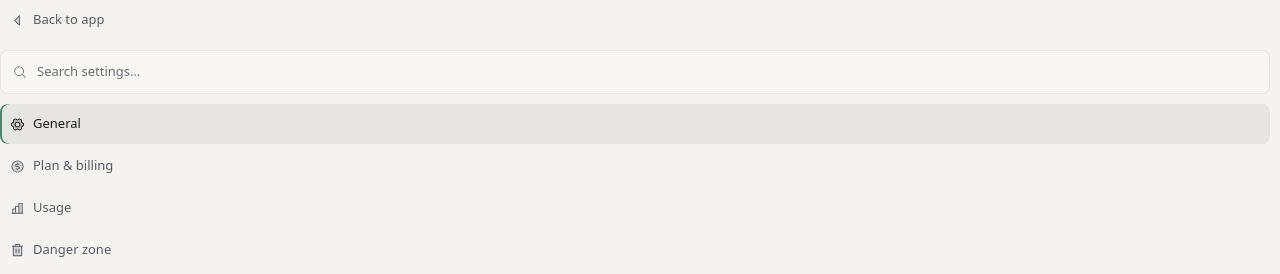
SettingsNav › filters section items by search while keeping Back visible
The image size is (1280, 274).
Type "usag" into the search field labelled "Search settings" at (646, 72), box [35,61,1257,83]
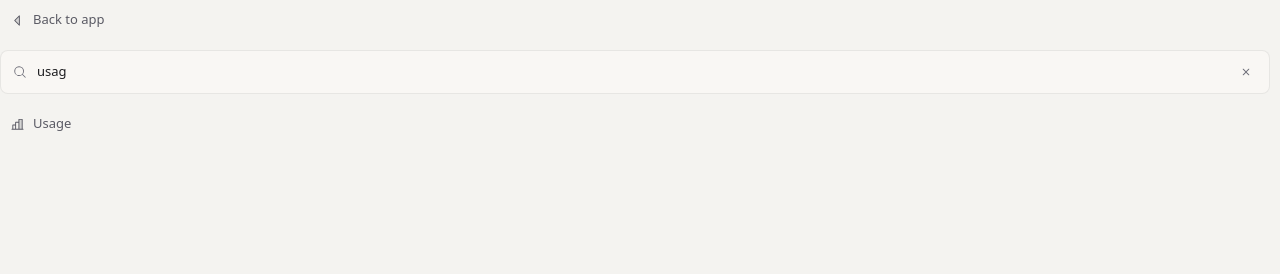
expect the link "Usage" is shown: met, box [10,114,71,132]
expect the link "General" is gone: met
Replace the text in the search field named "Search settings" with "zzz-no-match" at (631, 72), box [35,61,1227,83]
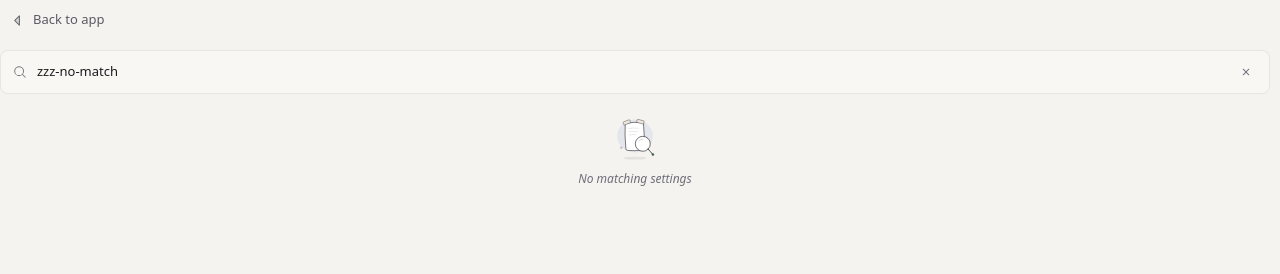
expect the text "No matching settings" is shown: met, box [578,170,692,188]
